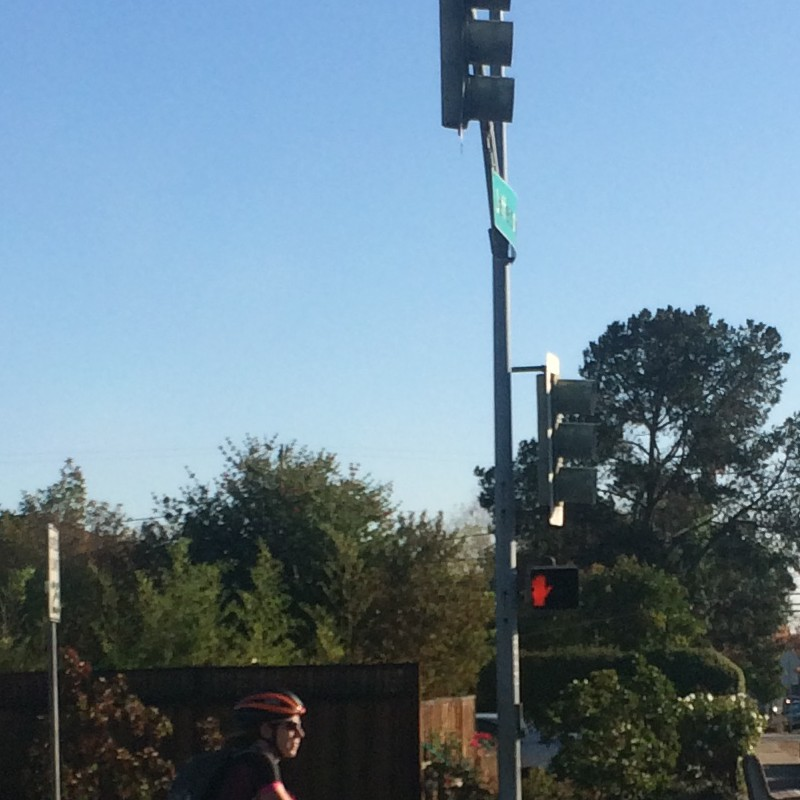stop: (527, 565, 579, 615)
